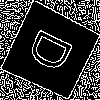D: (25, 26, 83, 80)
